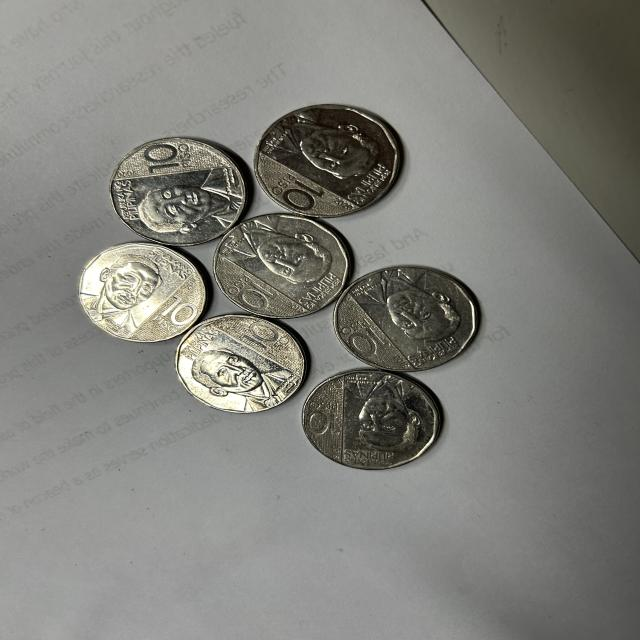10_New_Front: (226, 268, 290, 319), (267, 167, 328, 210), (140, 142, 208, 177), (236, 318, 290, 355), (340, 314, 384, 359), (310, 396, 343, 443), (154, 292, 197, 322)
